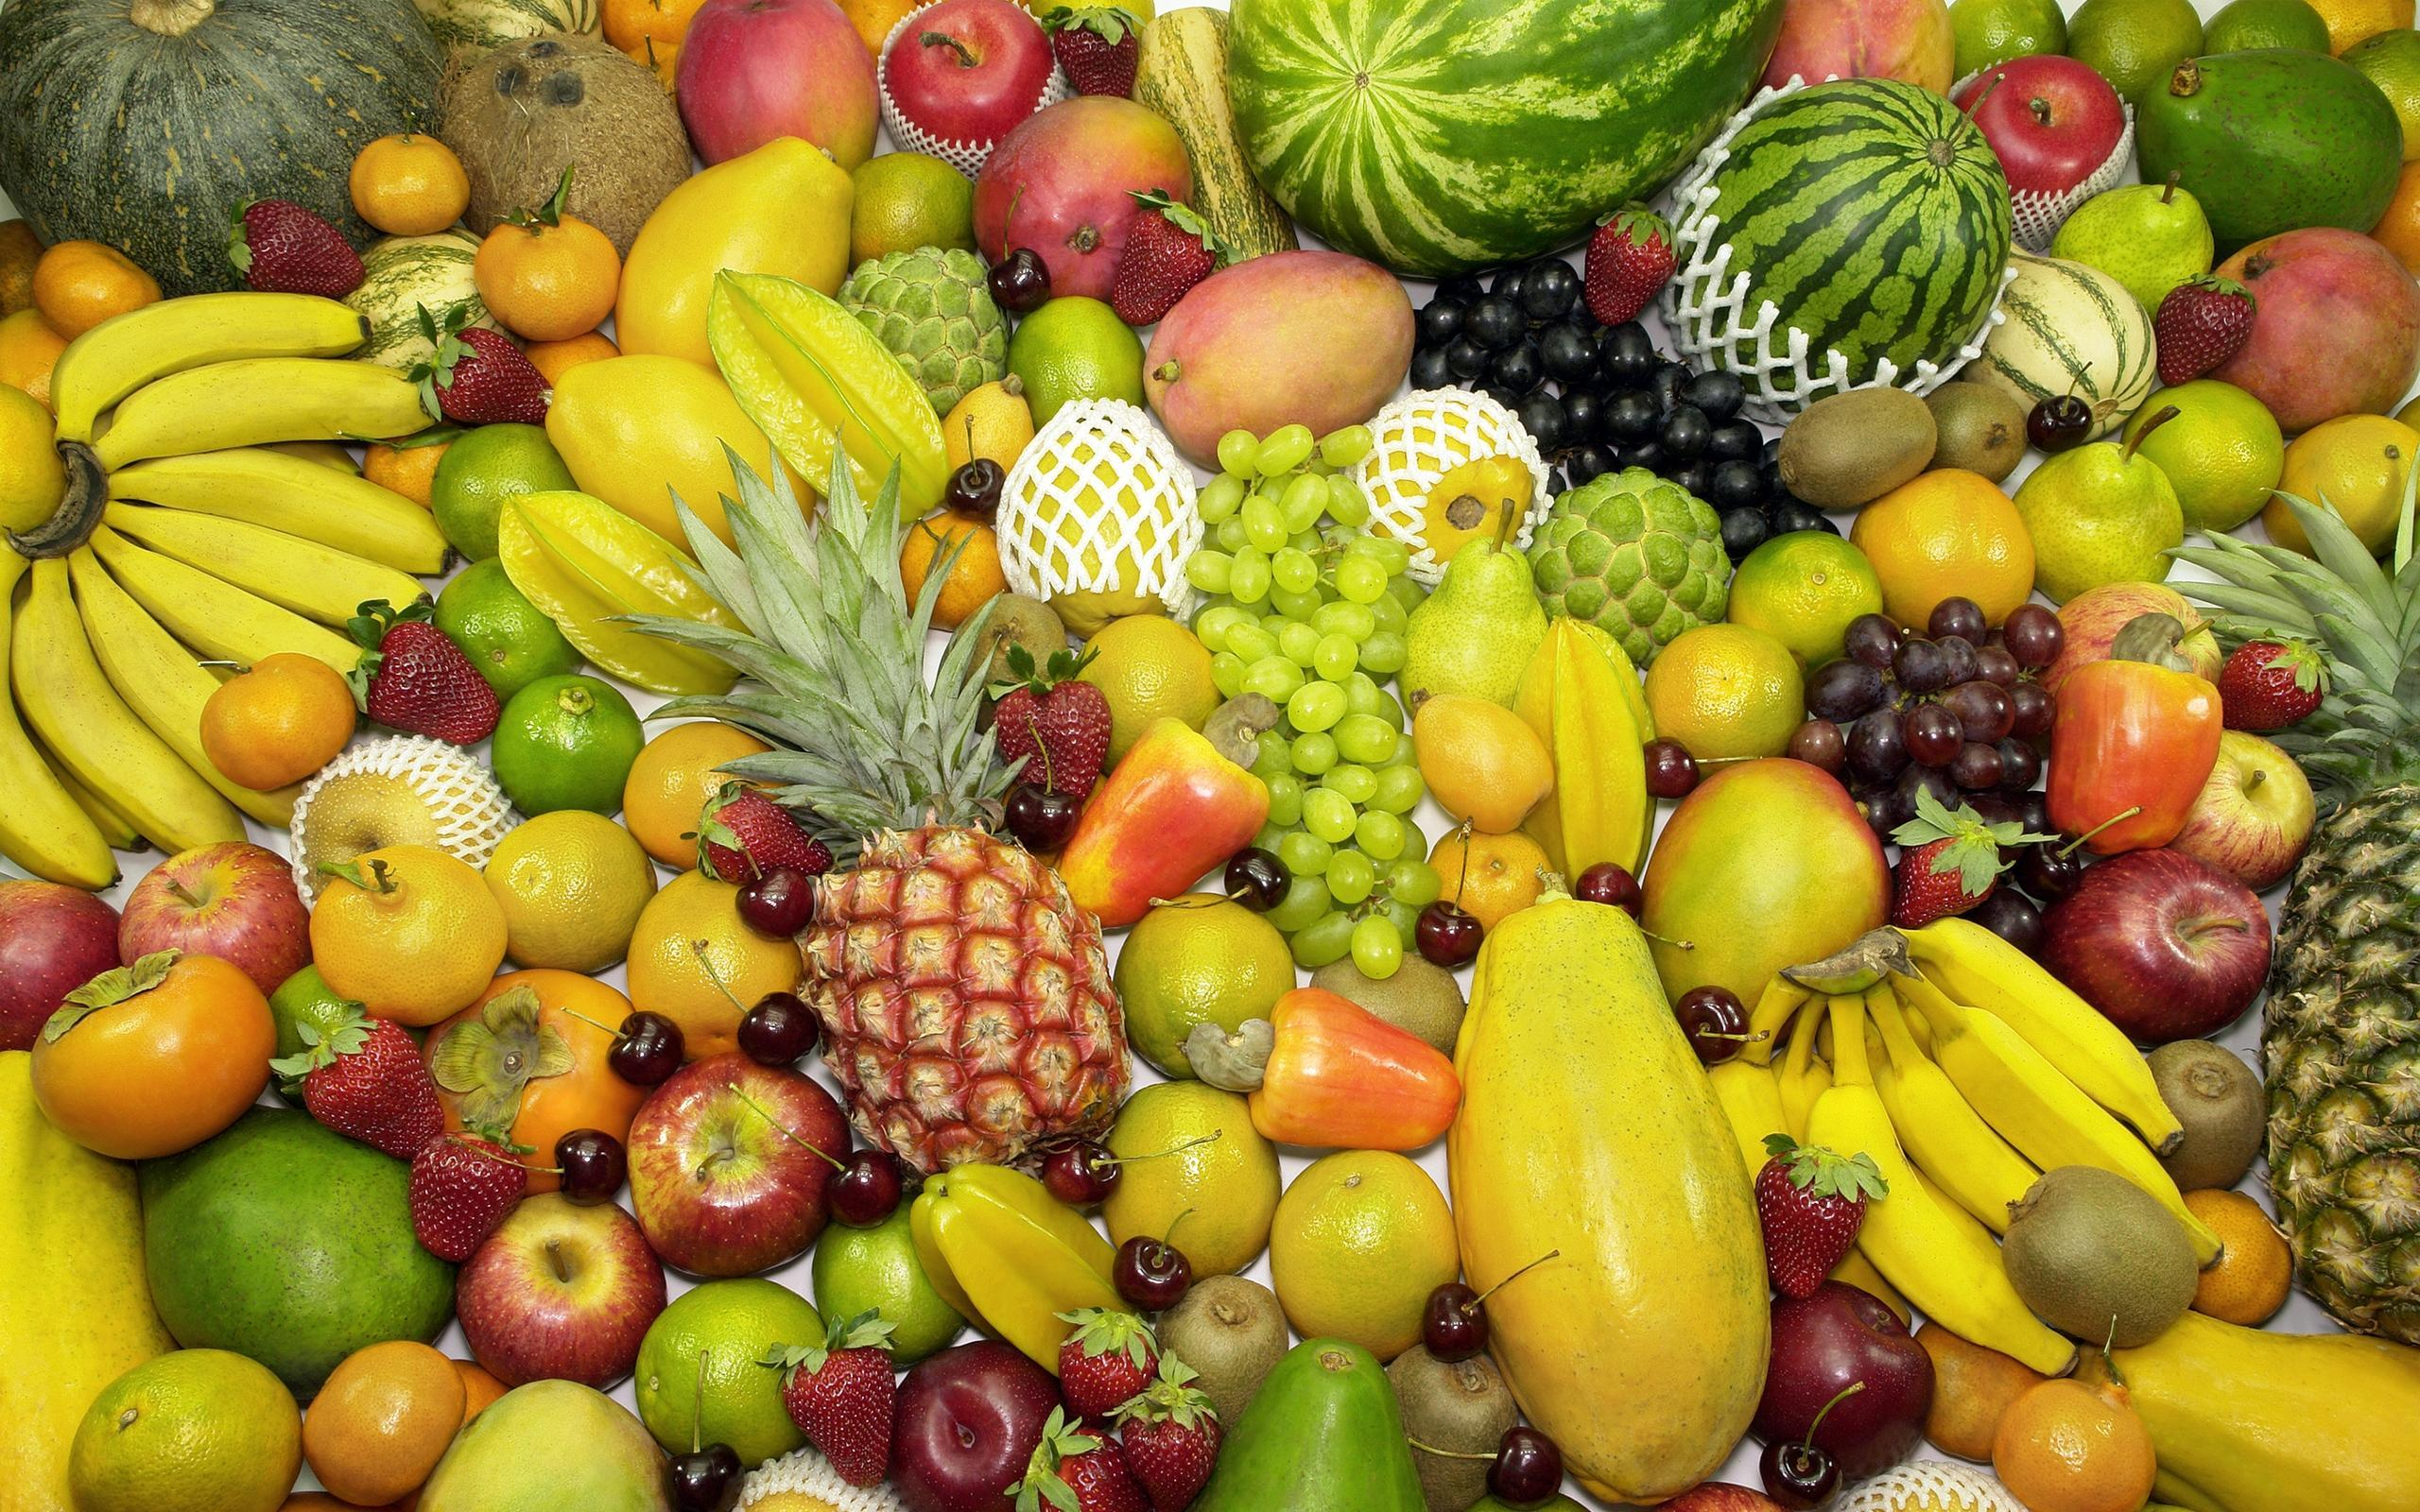apple: (977, 99, 1216, 321), (620, 1050, 847, 1282), (2174, 226, 2411, 429), (2035, 848, 2270, 1050), (453, 1186, 667, 1397), (673, 2, 878, 167), (115, 836, 308, 1002), (883, 1340, 1056, 1510), (2174, 730, 2315, 892), (2, 885, 124, 1056), (1754, 2, 1955, 101)
